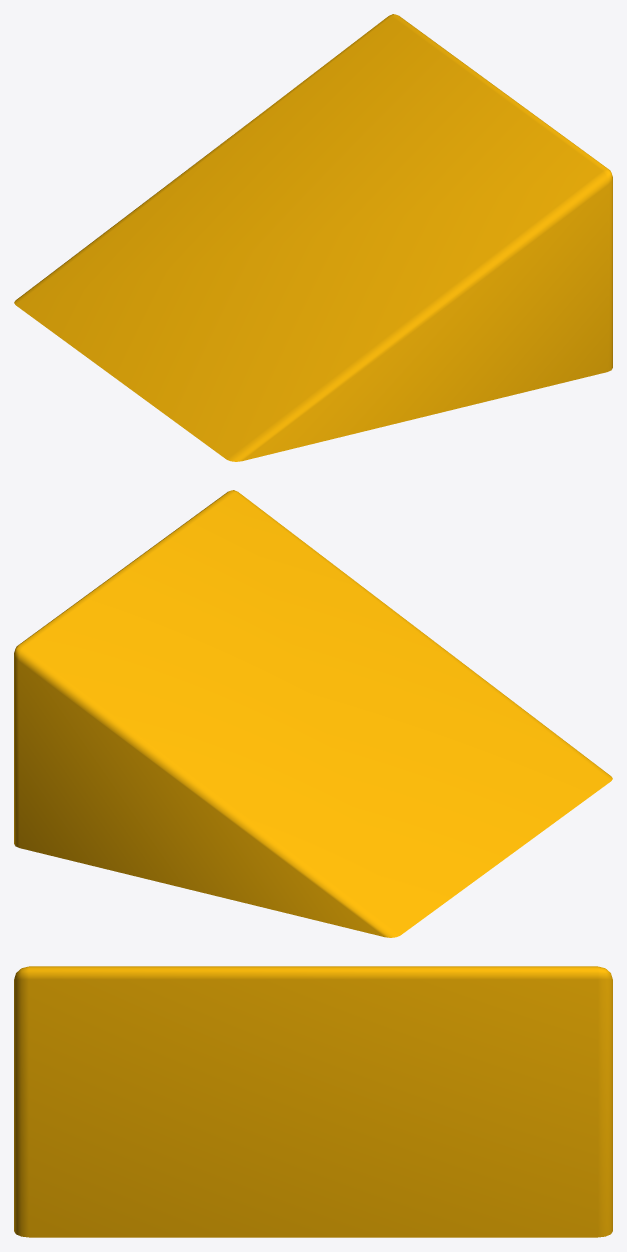
The model's file is Ramp_Half.fbx.
3 renders of one model, top to bottom at view 1: azimuth 30°, elevation 25°; view 2: azimuth 150°, elevation 25°; view 3: azimuth 270°, elevation 25°, orthographic. The views are drawn at different scales.
Visible parts, largest first — view 1: Ramp_Half; view 2: Ramp_Half; view 3: Ramp_Half.
Part boxes in pixels (x1,y1,x2,y2): Ramp_Half: (14,14,612,461); Ramp_Half: (14,490,612,937); Ramp_Half: (14,966,612,1237).
Bounding box in the file's own units: 1 × 0.491 × 1.
